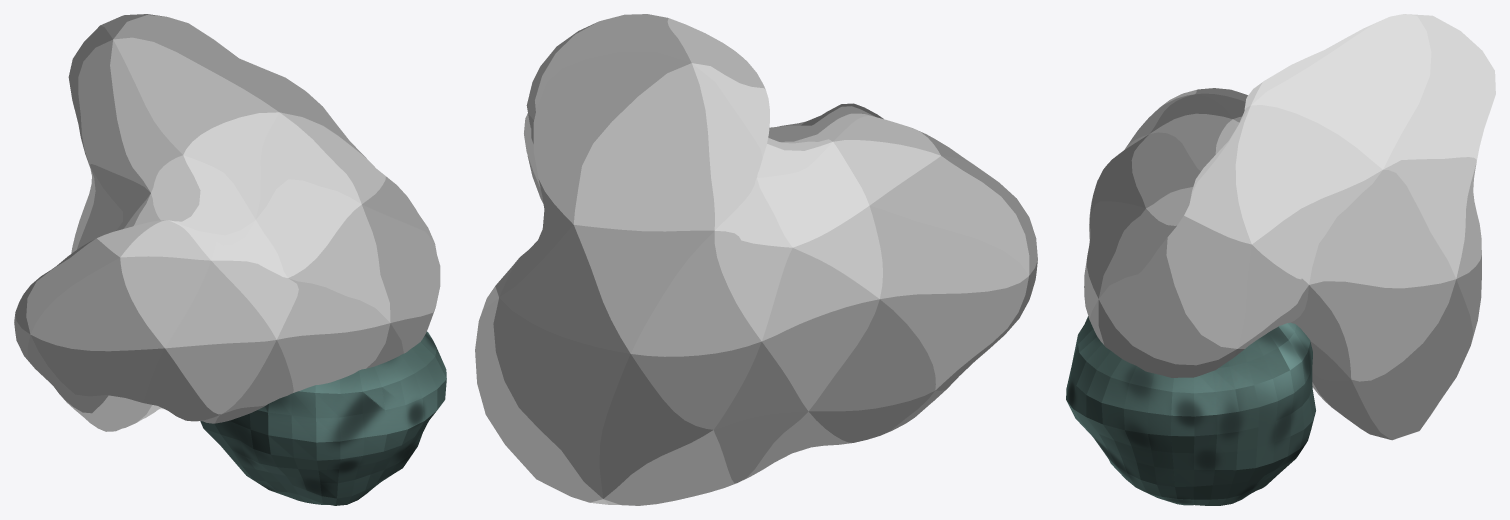
The model's file is asteroid.gltf.
3 views of the same model, side by side, from view 1: azimuth 30°, elevation 25°; view 2: azimuth 150°, elevation 25°; view 3: azimuth 270°, elevation 25° (orthographic). The views are drawn at different scales.
Parts seen in each view (by area): view 1: Asteroid2, Asteroid1; view 2: Asteroid2; view 3: Asteroid2, Asteroid1.
Boxes of the visible parts, x1,y1,x2,y2 form: Asteroid2: (14,14,440,431); Asteroid1: (200,331,446,505); Asteroid2: (475,14,1037,505); Asteroid2: (1084,14,1495,440); Asteroid1: (1066,316,1315,505).
Size of the model in its own units: 4.23 by 4.3 by 3.85.
1 material, 1 textured.
